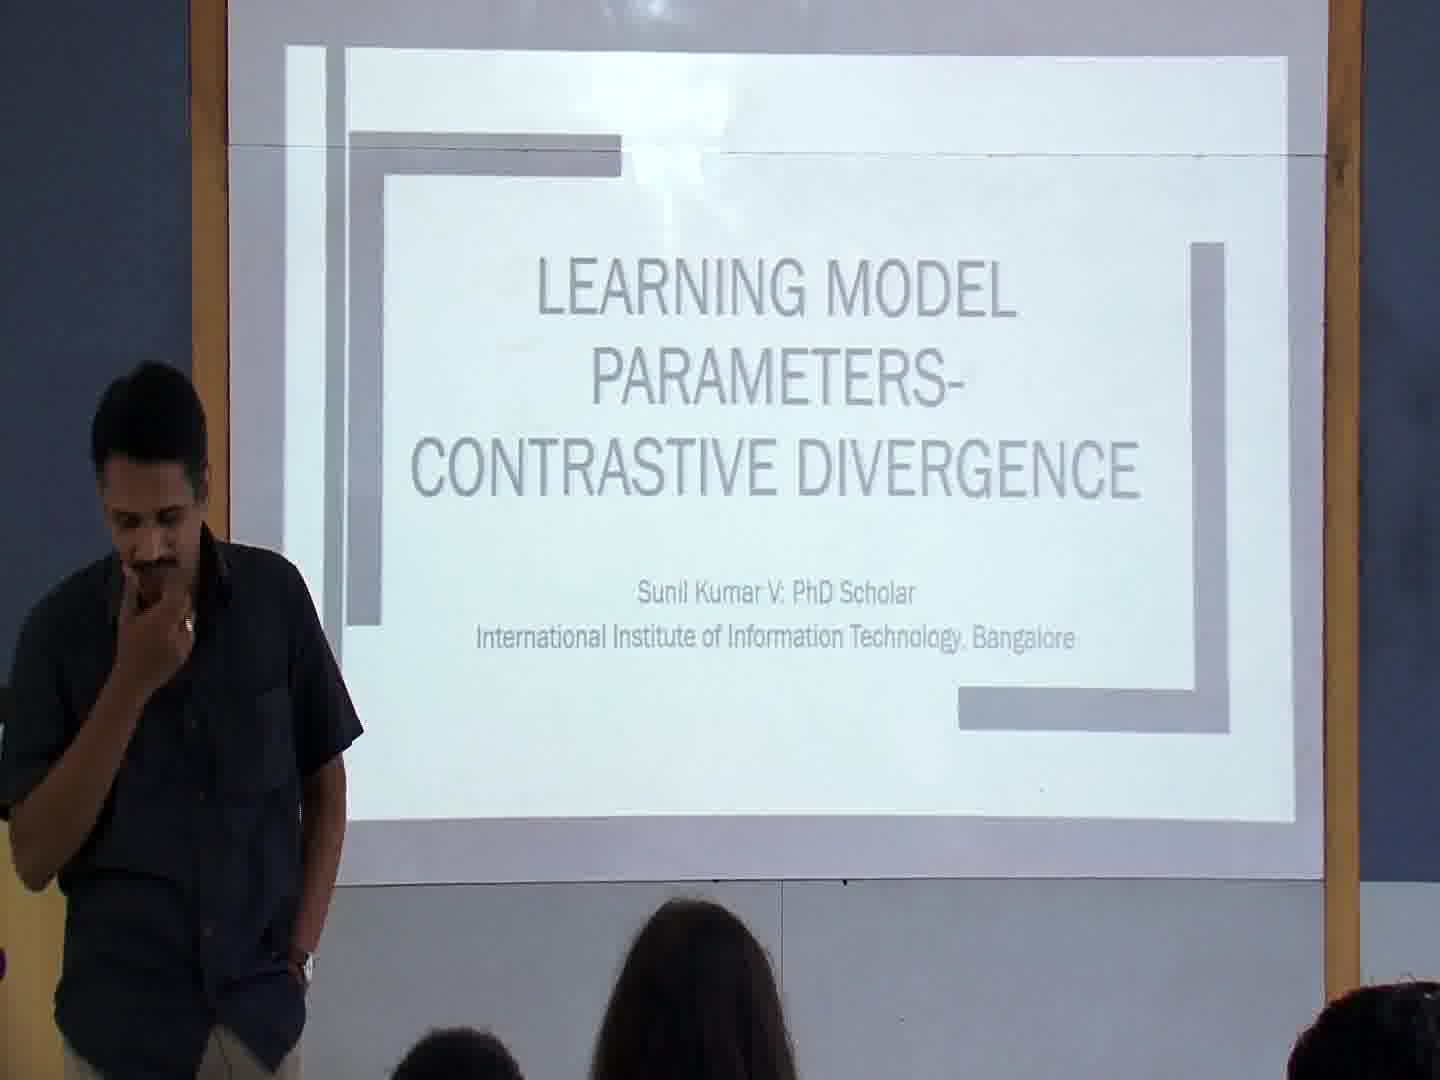slide: (283, 44, 1291, 824)
